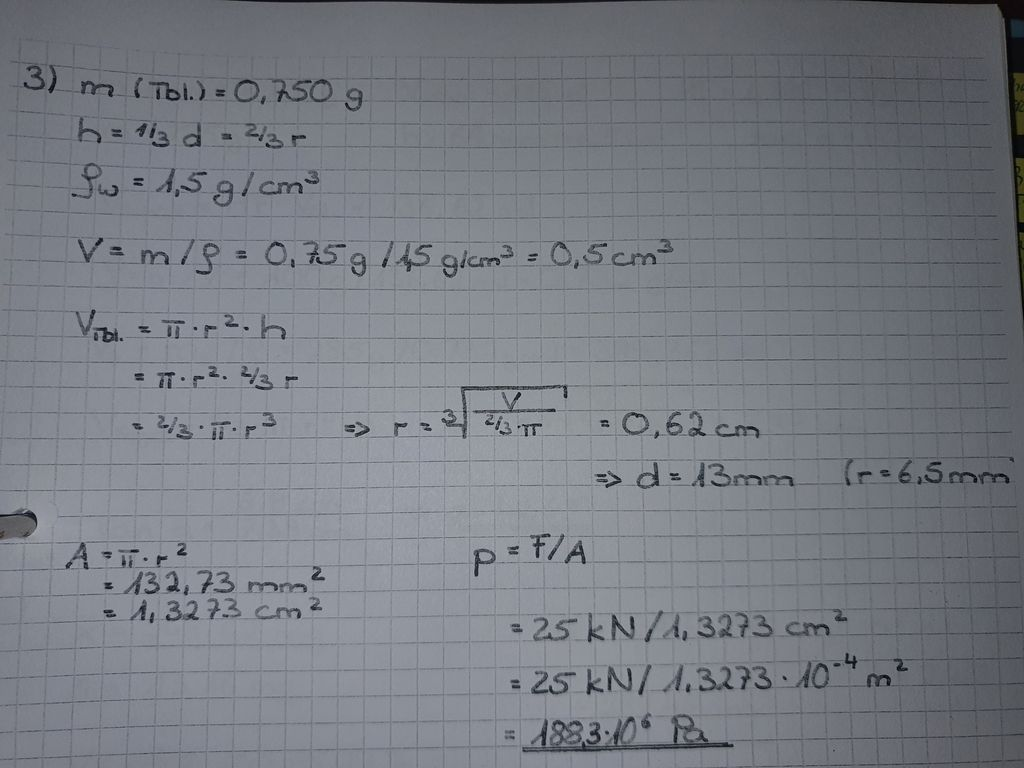equals: (206, 74, 234, 107), (494, 720, 529, 745), (131, 306, 158, 336), (128, 171, 154, 199), (216, 127, 246, 150), (229, 242, 255, 268), (102, 239, 130, 263), (524, 246, 549, 270), (875, 462, 895, 492), (667, 465, 687, 491), (127, 415, 150, 437), (96, 604, 121, 623), (596, 413, 616, 436), (413, 417, 434, 438), (108, 122, 128, 144), (504, 537, 522, 561), (129, 367, 151, 385), (508, 615, 525, 637), (507, 675, 527, 693), (100, 544, 116, 565), (96, 578, 121, 591)
equation: (58, 219, 684, 281), (380, 376, 777, 447), (495, 648, 918, 700), (488, 589, 861, 644), (73, 54, 373, 117), (64, 154, 331, 210), (62, 294, 304, 345), (73, 111, 342, 156), (492, 707, 738, 756), (621, 446, 815, 504), (453, 515, 605, 582), (854, 445, 1022, 504), (92, 560, 340, 597), (101, 596, 339, 631), (126, 355, 318, 398), (126, 407, 302, 448), (63, 531, 188, 569)
fraction: (532, 654, 911, 696), (529, 596, 852, 643), (258, 228, 516, 279), (156, 160, 321, 205), (136, 230, 221, 275), (524, 523, 590, 570), (132, 119, 207, 150), (244, 122, 318, 151)
term: (519, 706, 751, 756), (442, 381, 578, 442), (125, 559, 351, 595), (124, 594, 332, 627), (232, 68, 382, 112), (75, 63, 208, 109), (622, 401, 766, 443), (163, 300, 295, 343), (549, 233, 677, 273), (157, 360, 305, 393), (154, 407, 284, 442), (897, 451, 1014, 489), (691, 456, 801, 494), (69, 299, 122, 345), (117, 538, 190, 569), (70, 163, 123, 202), (68, 229, 110, 269), (465, 539, 499, 581), (634, 458, 662, 492), (63, 538, 92, 570), (385, 414, 409, 440), (854, 460, 871, 491)
